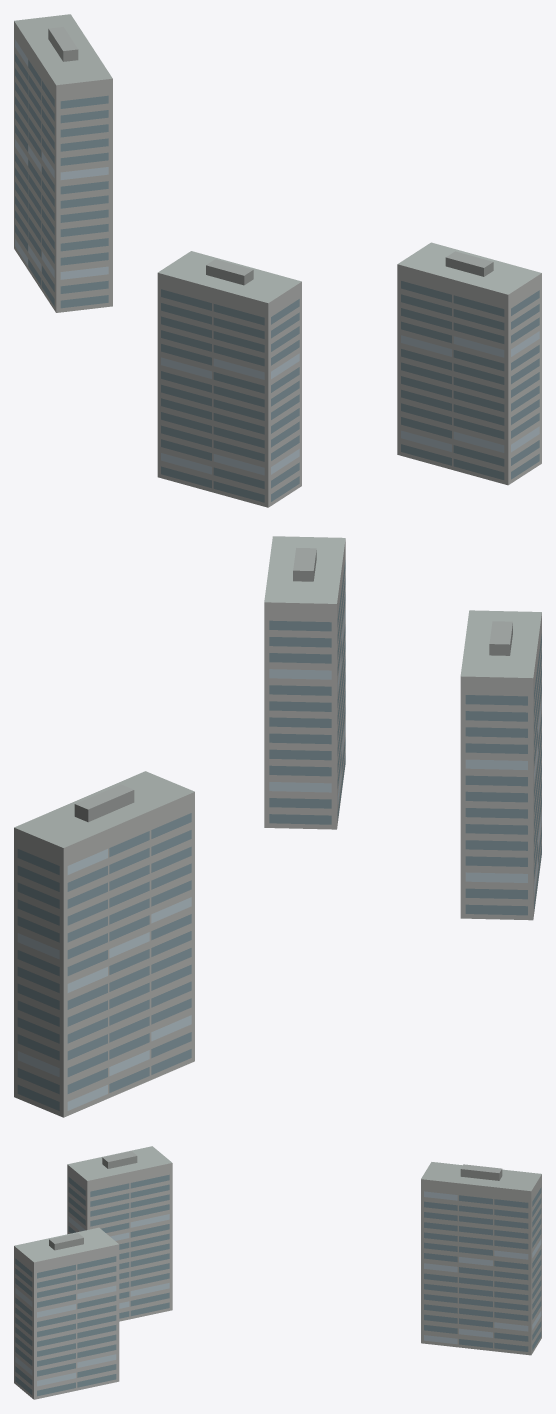
File: apt-a13402204.glb
The picture shows the model from 3 angles, top to bottom: view 1: azimuth 30°, elevation 25°; view 2: azimuth 150°, elevation 25°; view 3: azimuth 270°, elevation 25°; orthographic projection. The views are drawn at different scales.
Parts seen in each view (by area): view 1: apt-a13402204; view 2: apt-a13402204; view 3: apt-a13402204.
Boxes of the visible parts, left/top/right/bottom form: apt-a13402204: left=14, top=14, right=541, bottom=507; apt-a13402204: left=14, top=536, right=541, bottom=1117; apt-a13402204: left=14, top=1146, right=541, bottom=1399.
Bounding box in the file's own units: 64.98 × 49 × 136.
